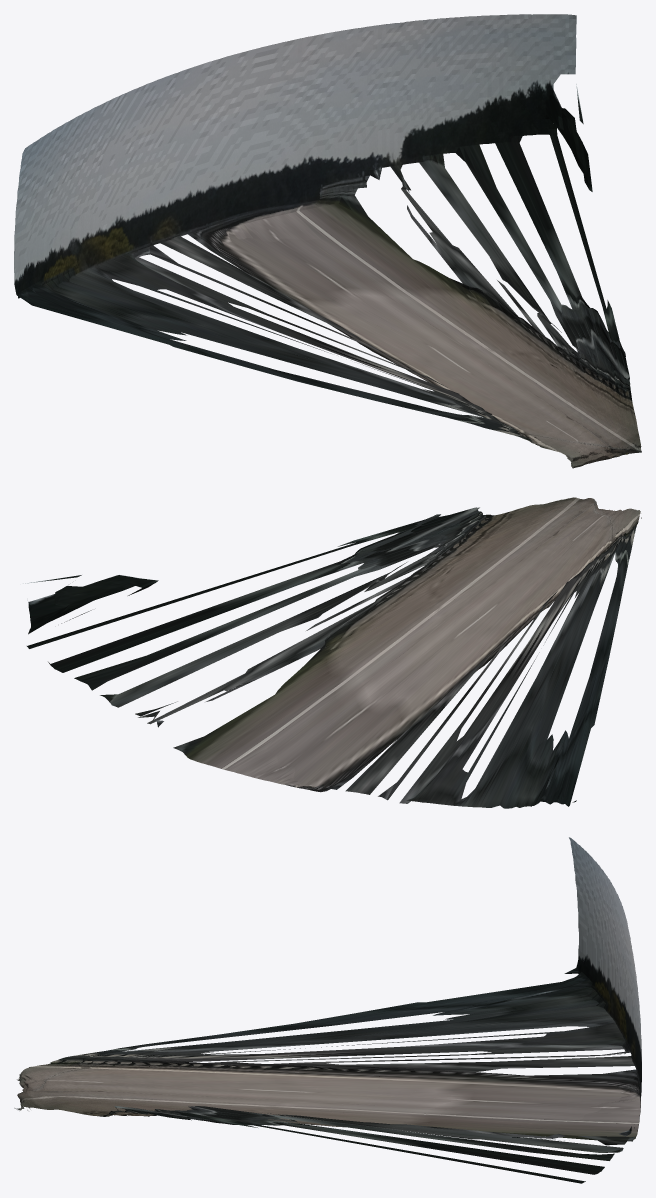
3 views of the same model, one above another, from view 1: azimuth 30°, elevation 25°; view 2: azimuth 150°, elevation 25°; view 3: azimuth 270°, elevation 25° (orthographic). The views are drawn at different scales.
Visible parts, largest first — view 1: defaultobject; view 2: defaultobject; view 3: defaultobject.
Boxes of the visible parts, bbox=[...] form: defaultobject: bbox=[14, 14, 641, 468]; defaultobject: bbox=[23, 497, 641, 808]; defaultobject: bbox=[14, 837, 641, 1183].
Size of the model in its own units: 41.08 by 12.81 by 44.44.
1 material, 1 textured.
